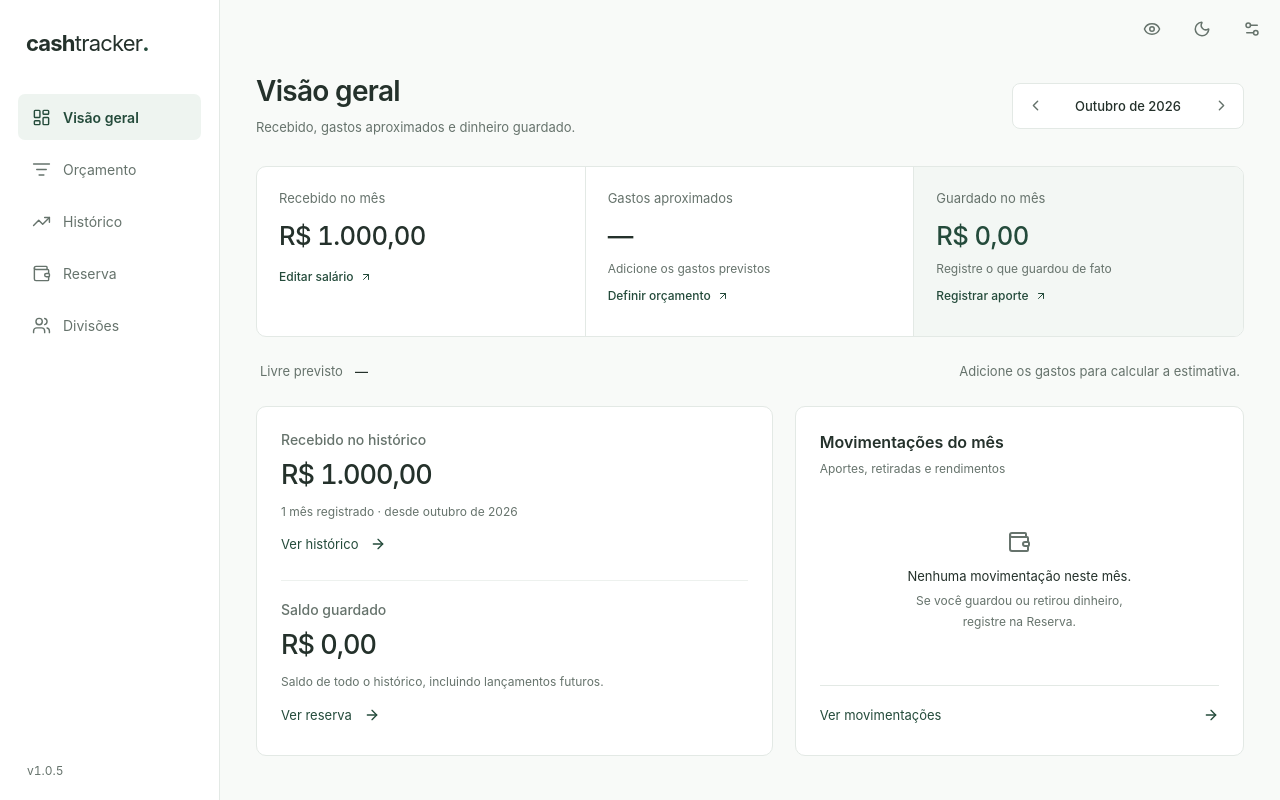
it: primeiro uso › preserva registros existentes ao abrir as configurações
The image size is (1280, 800).
Expected: the heading "Visão geral" is shown, [256,74,400,108]
Click the link named "Configurações": {"x": 1252, "y": 29} [1243,20,1261,38]
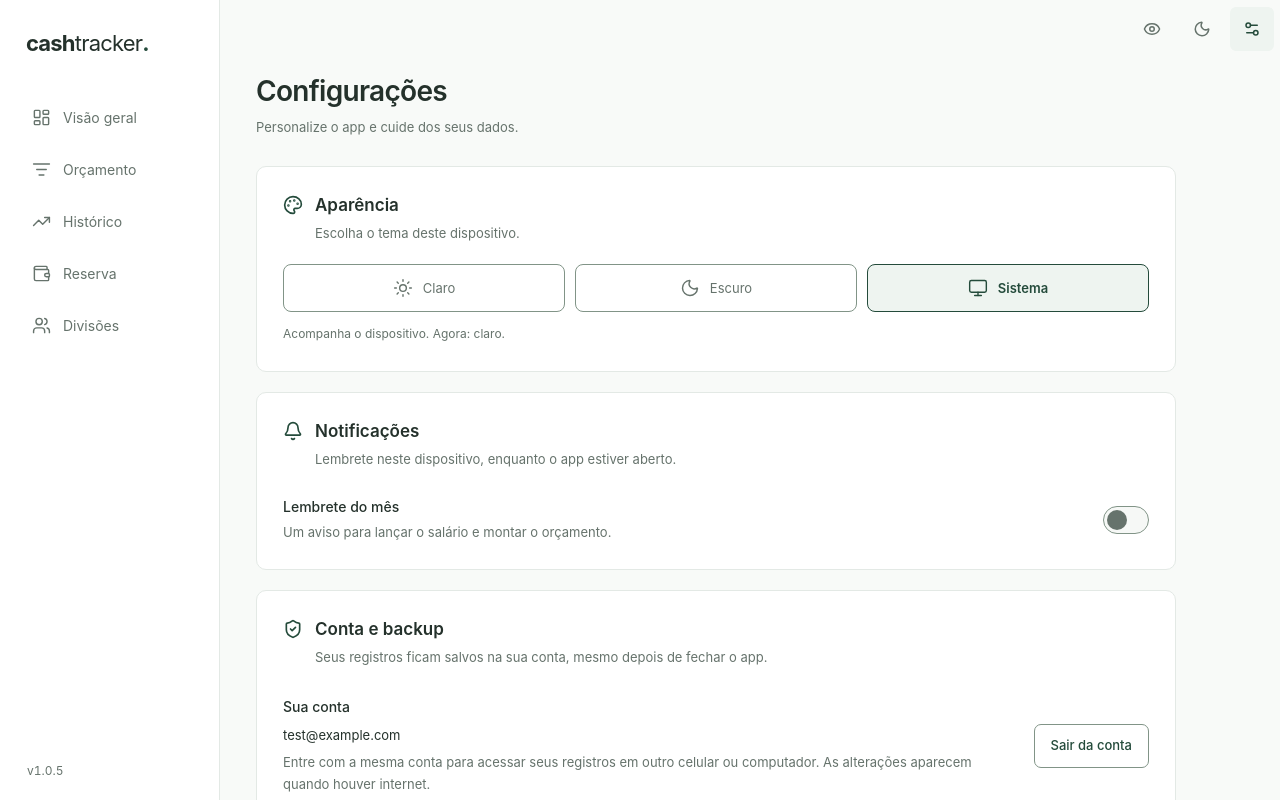
Now the heading "Configurações" is shown, box [256,74,447,108]
